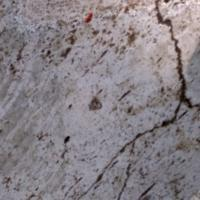crack: (95, 2, 199, 192)
